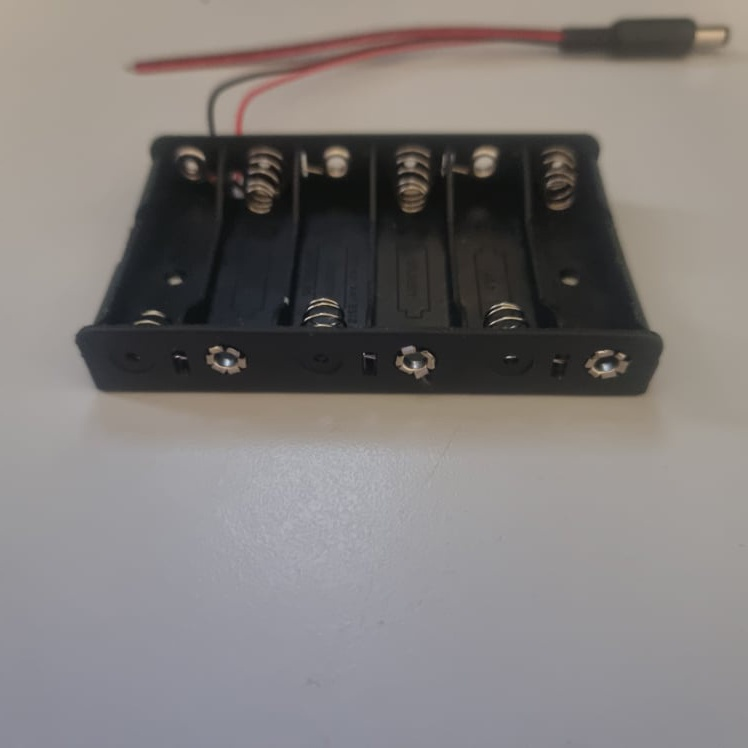BATTERY BOX: (73, 130, 663, 396)
